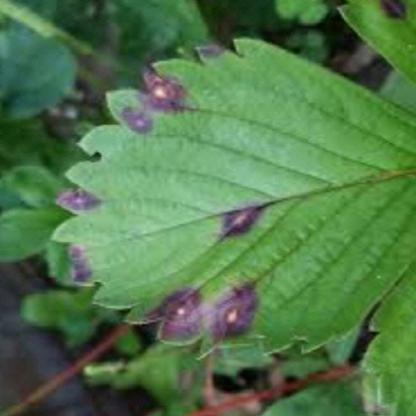Strawberry_Leaf_Spot: (48, 38, 415, 361)
